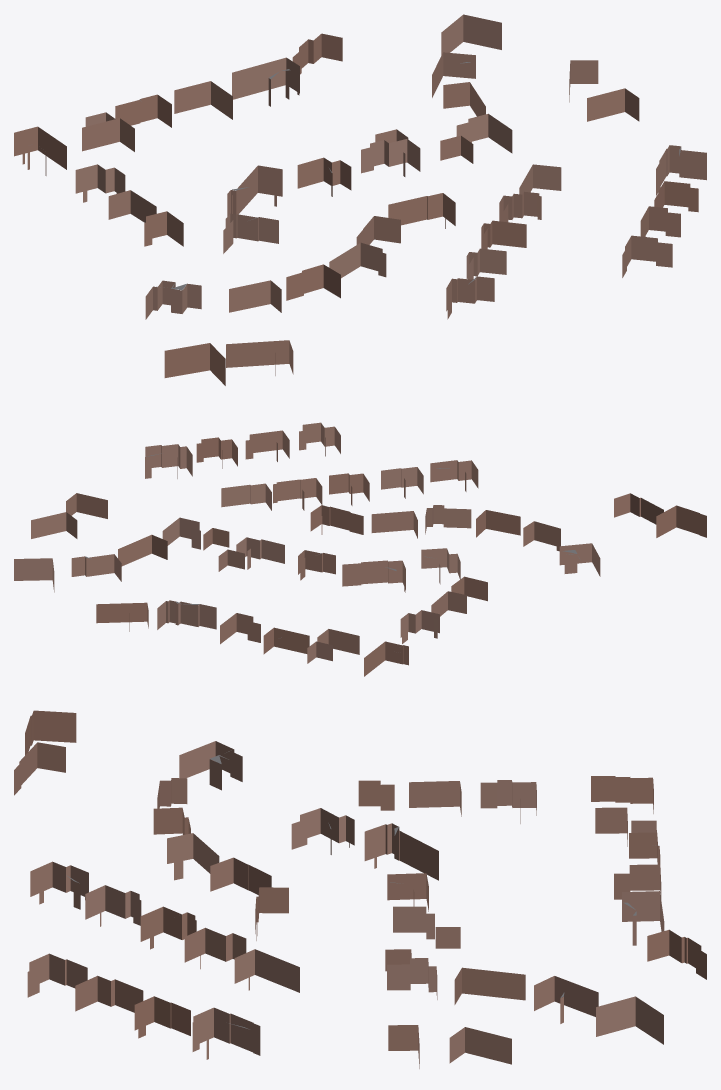
Rendered from c_1646_17837_buildings_residential.glb.
The picture shows the model from 3 angles, top to bottom: view 1: azimuth 30°, elevation 25°; view 2: azimuth 150°, elevation 25°; view 3: azimuth 270°, elevation 25°; orthographic projection. The views are drawn at different scales.
Parts seen in each view (by area): view 1: geometry_0; view 2: geometry_0; view 3: geometry_0.
Part boxes in pixels (bbox=[...]): geometry_0: bbox=[14, 14, 706, 385]; geometry_0: bbox=[14, 422, 706, 676]; geometry_0: bbox=[14, 710, 706, 1068].
Bounding box in the file's own units: 265 × 11.08 × 231.
